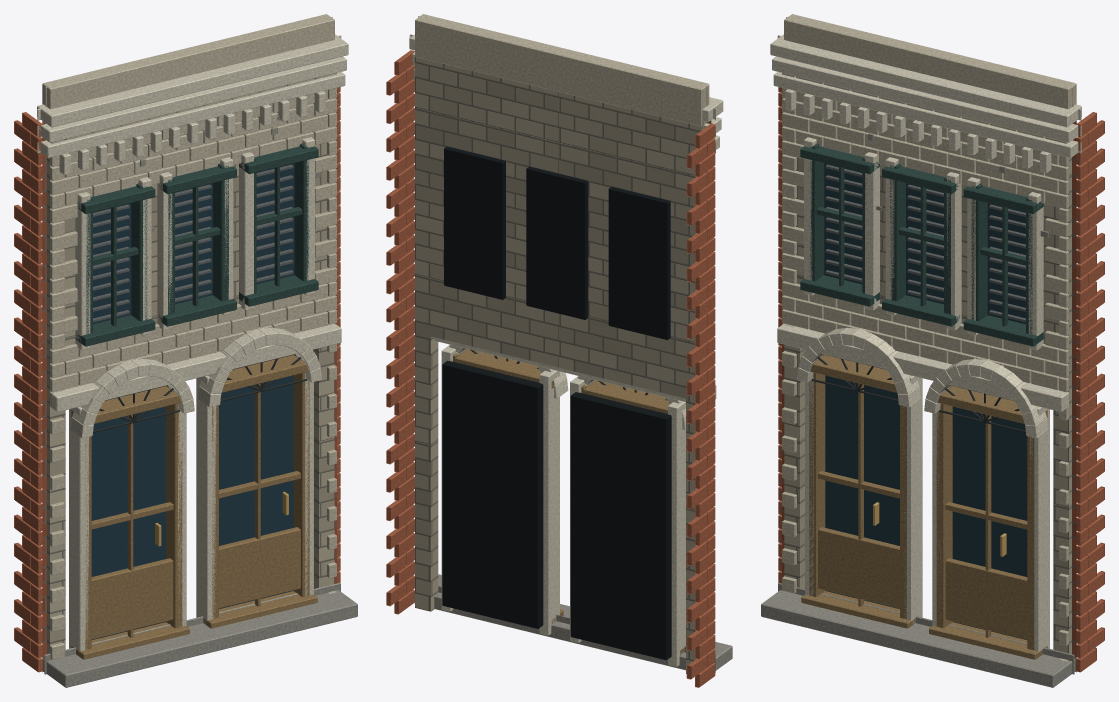
File: CLSTGA15_lod0.glb
The picture shows the model from 3 angles, left to right: view 1: azimuth 30°, elevation 25°; view 2: azimuth 150°, elevation 25°; view 3: azimuth 330°, elevation 25°; orthographic projection.
Visible parts, largest first — view 1: CLSTGA15_FRONT_LOD0; view 2: CLSTGA15_FRONT_LOD0; view 3: CLSTGA15_FRONT_LOD0.
Part boxes in pixels (<box>): CLSTGA15_FRONT_LOD0: <box>14,14,357,687</box>; CLSTGA15_FRONT_LOD0: <box>386,14,732,687</box>; CLSTGA15_FRONT_LOD0: <box>761,14,1104,687</box>.
Bounding box in the file's own units: 3.84 × 7.05 × 1.02.
17 materials, 14 textured.
